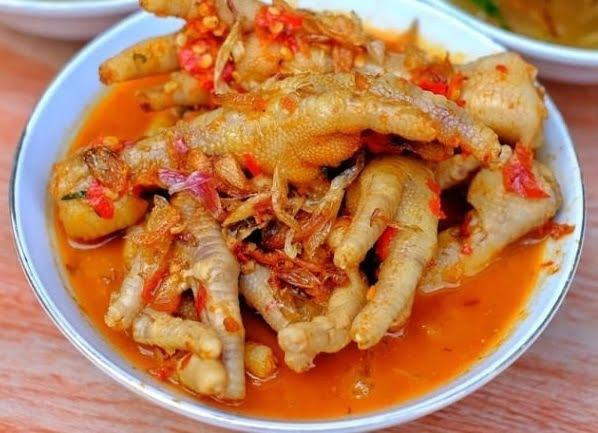seblak: (48, 1, 563, 421)
